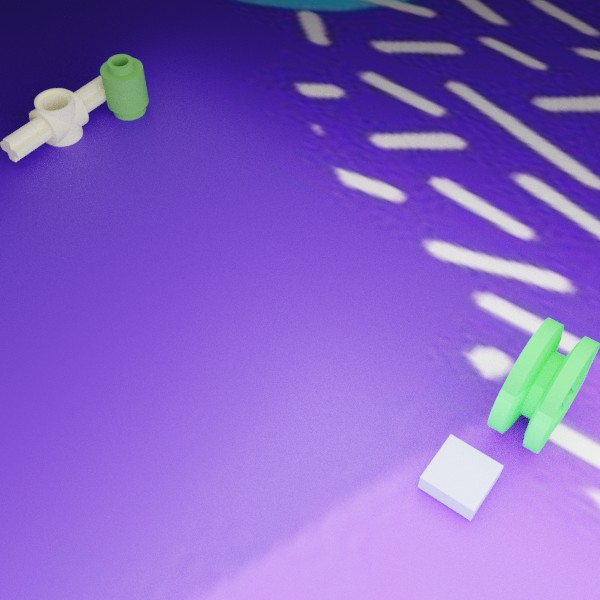lego: (487, 317, 600, 453), (0, 75, 113, 162), (417, 434, 503, 520), (100, 54, 148, 120)
